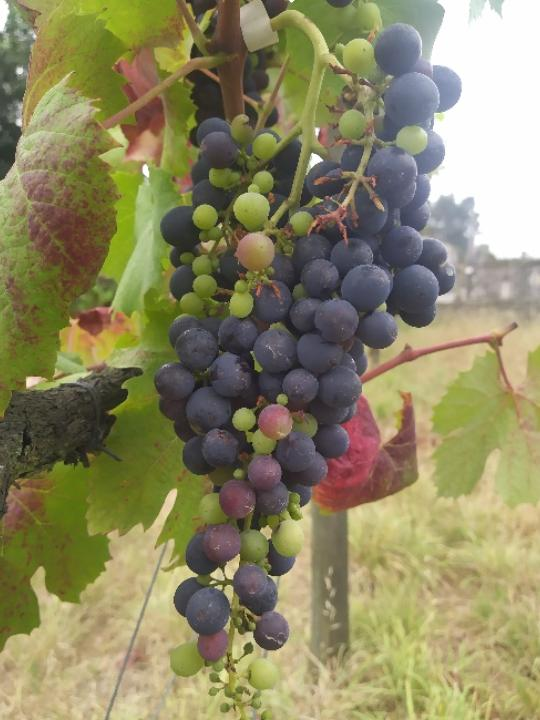grape: (153, 22, 462, 720)
